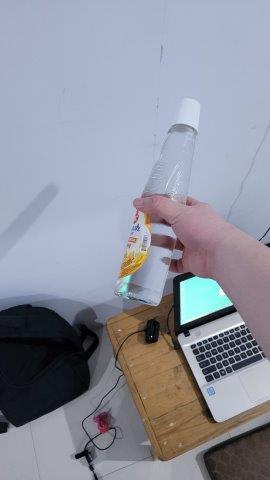botolkaca: (116, 99, 200, 309)
